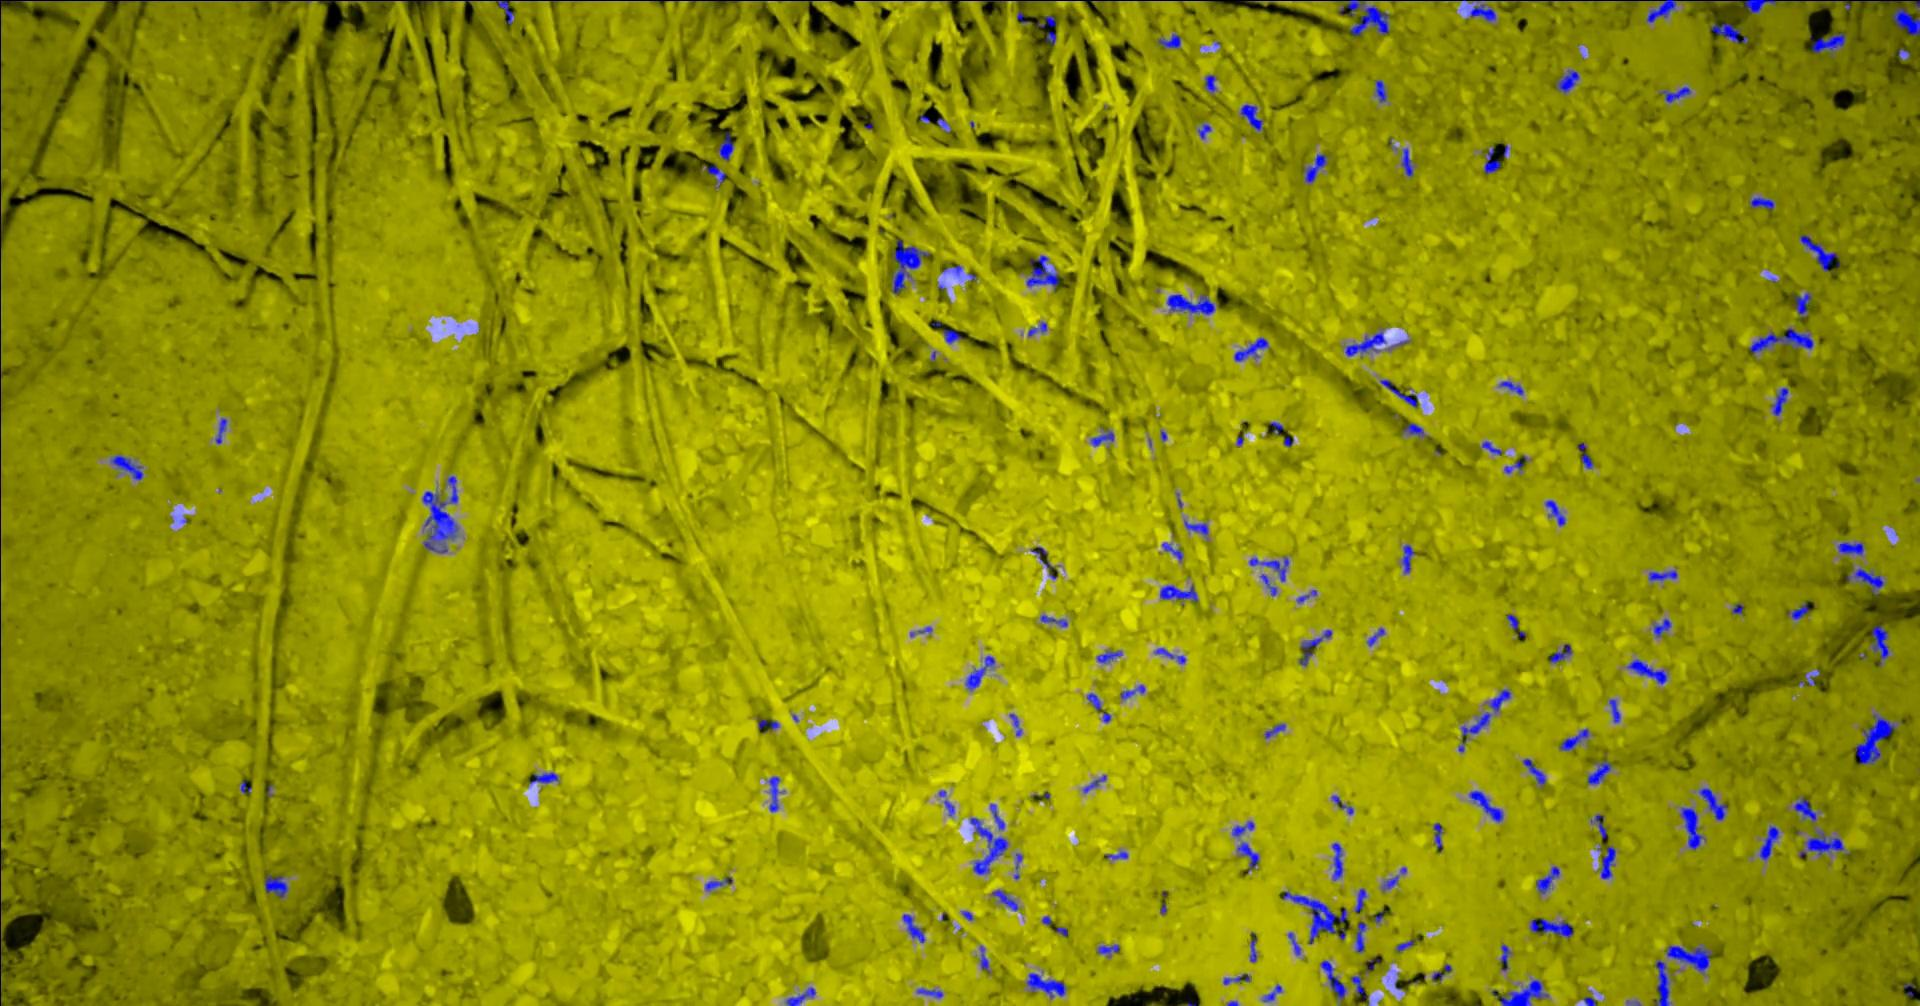ant: (1283, 890, 1346, 942), (1458, 688, 1510, 751), (969, 817, 1007, 874), (891, 239, 930, 293), (1854, 713, 1895, 763), (1336, 0, 1389, 36), (1749, 326, 1813, 353), (1799, 235, 1839, 271), (1495, 979, 1548, 1005), (1799, 829, 1843, 857), (1299, 629, 1331, 666), (1026, 255, 1059, 290), (1666, 945, 1710, 970), (1379, 379, 1417, 406), (1468, 790, 1502, 821), (1627, 658, 1667, 683), (1845, 568, 1883, 594), (1680, 807, 1704, 848), (1026, 972, 1065, 997), (1166, 293, 1214, 314), (1345, 332, 1385, 356), (965, 655, 994, 688), (1730, 0, 1804, 13), (1248, 556, 1288, 580), (1321, 960, 1345, 1000), (1698, 788, 1727, 819), (1709, 22, 1749, 43), (1233, 337, 1267, 361), (1529, 918, 1572, 937), (1841, 0, 1919, 10), (1891, 8, 1919, 36), (1810, 32, 1845, 53), (110, 455, 142, 479), (1302, 154, 1327, 182), (1236, 841, 1258, 871), (1653, 959, 1669, 1005), (1646, 0, 1676, 22), (1558, 728, 1589, 749), (1535, 866, 1559, 893), (902, 915, 924, 942), (1159, 584, 1197, 601), (1759, 826, 1778, 859), (1239, 104, 1263, 130), (1586, 760, 1611, 784), (1870, 625, 1888, 659), (1523, 758, 1545, 785), (1030, 546, 1053, 572), (990, 889, 1018, 909), (1036, 15, 1055, 44), (701, 165, 725, 188), (264, 873, 287, 897), (1469, 0, 1495, 22), (785, 987, 815, 1005), (1556, 69, 1578, 91), (1350, 976, 1368, 1005), (1794, 796, 1815, 822), (1154, 647, 1185, 663), (1787, 601, 1815, 619), (1600, 846, 1615, 878), (1660, 86, 1690, 102), (1545, 500, 1564, 525), (1082, 774, 1106, 793), (717, 131, 733, 160), (1483, 146, 1500, 173), (1503, 453, 1526, 473), (1331, 842, 1342, 880), (1771, 387, 1787, 415), (1793, 292, 1810, 318), (1590, 813, 1606, 838), (1549, 643, 1571, 662), (1331, 795, 1352, 814), (495, 0, 513, 23), (989, 803, 1004, 829), (768, 776, 780, 810), (1401, 544, 1415, 572), (1161, 542, 1182, 560), (705, 876, 731, 890), (1577, 443, 1592, 467), (1120, 683, 1144, 699), (1230, 821, 1253, 836), (1750, 196, 1774, 210), (1183, 520, 1208, 533), (1260, 574, 1276, 594), (1431, 964, 1451, 981), (1837, 541, 1863, 554), (1096, 650, 1121, 663), (1157, 33, 1180, 47), (1401, 149, 1412, 177), (1090, 431, 1112, 445), (1222, 973, 1250, 984), (1366, 627, 1384, 645), (1355, 921, 1365, 951), (1498, 381, 1523, 394), (1354, 888, 1366, 912), (1040, 615, 1067, 626), (1263, 723, 1285, 737), (1647, 570, 1676, 580), (1653, 619, 1670, 636), (1263, 984, 1281, 1001), (215, 418, 226, 443), (1608, 699, 1620, 721), (1288, 932, 1300, 955), (1403, 422, 1423, 436), (1481, 441, 1501, 455), (530, 772, 557, 782), (757, 716, 778, 729), (979, 945, 989, 972), (916, 987, 942, 997), (942, 329, 961, 343), (1086, 692, 1100, 711), (1374, 79, 1385, 102), (1010, 713, 1021, 735), (1432, 822, 1441, 851), (1097, 944, 1119, 955), (1027, 323, 1046, 335), (1500, 944, 1509, 970), (1382, 875, 1398, 889), (1204, 74, 1215, 91), (1396, 940, 1413, 951), (1197, 123, 1210, 138), (1250, 932, 1256, 962), (1506, 614, 1517, 629), (1105, 851, 1128, 857)
